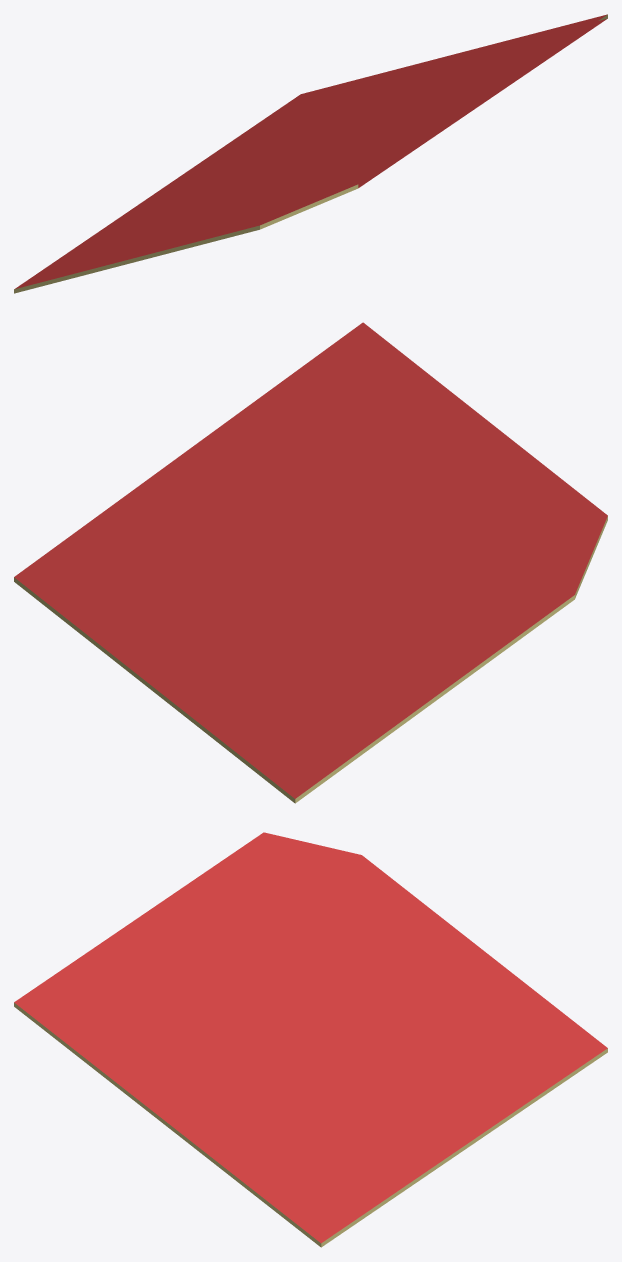
The picture shows the model from 3 angles, top to bottom: view 1: azimuth 90°, elevation 25°; view 2: azimuth 150°, elevation 25°; view 3: azimuth 270°, elevation 25°; orthographic projection. The views are drawn at different scales.
Bounding box in the file's own units: 13.22 × 12.78 × 3.91.
